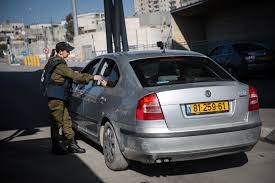licence: (184, 99, 230, 119)
